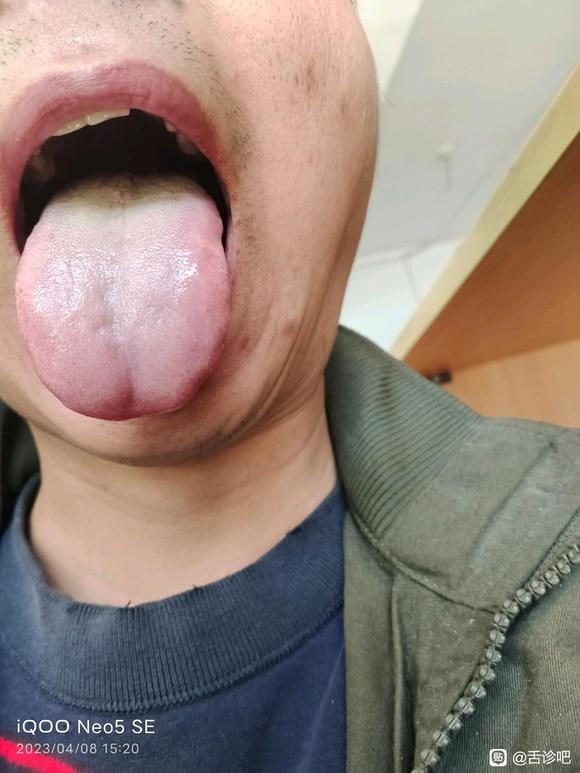huangtaishe: (15, 173, 232, 422)
